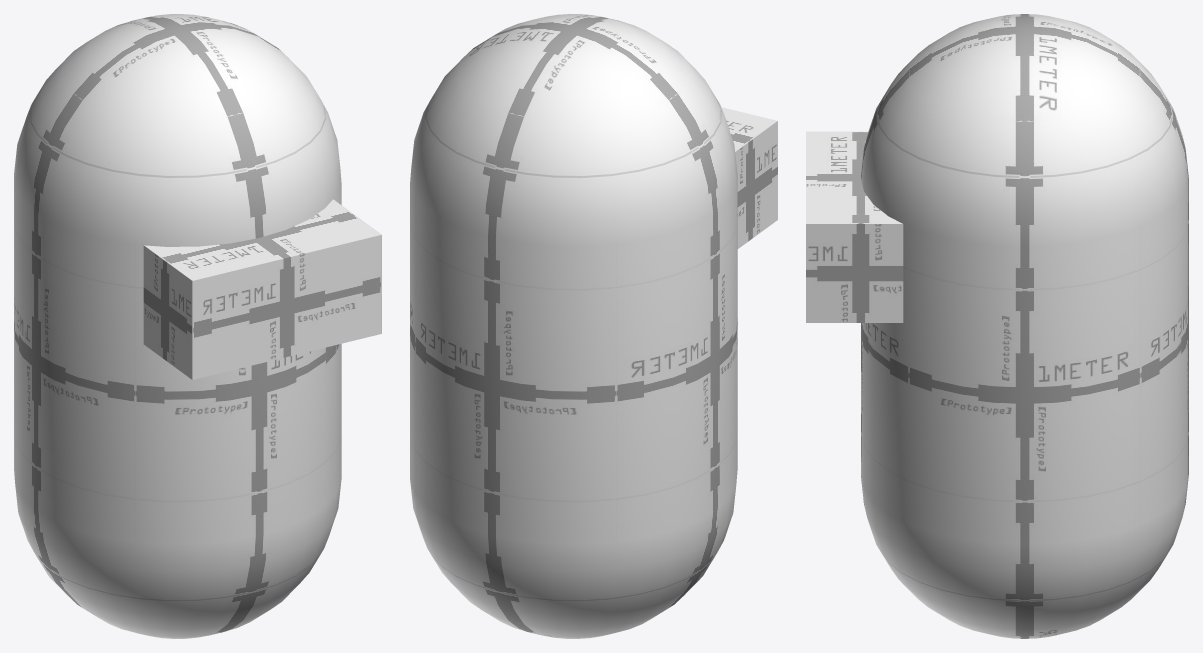
3 views of the same model, side by side, from view 1: azimuth 30°, elevation 25°; view 2: azimuth 150°, elevation 25°; view 3: azimuth 270°, elevation 25° (orthographic).
Visible parts, largest first — view 1: Capsule; view 2: Capsule; view 3: Capsule.
Boxes of the visible parts, <box> form: Capsule: <box>14,14,381,638</box>; Capsule: <box>410,14,777,638</box>; Capsule: <box>806,14,1188,638</box>.
Size of the model in its own units: 0.6 by 1.2 by 0.7.
1 material, 1 textured.
